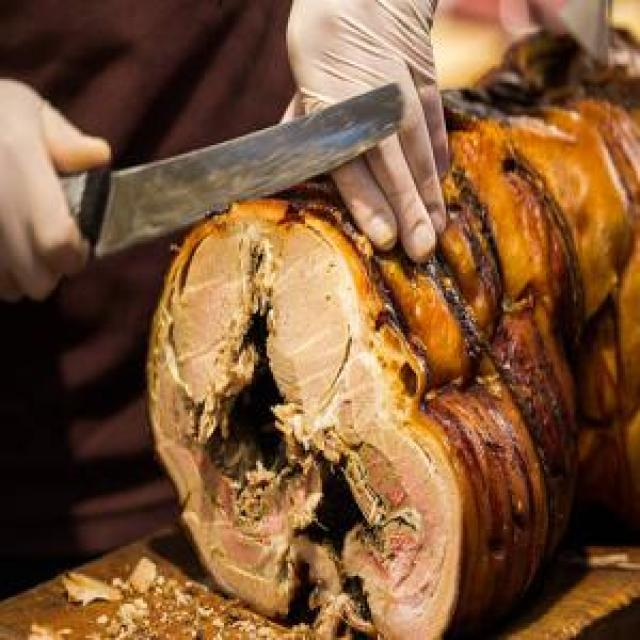knife: (0, 78, 405, 263)
